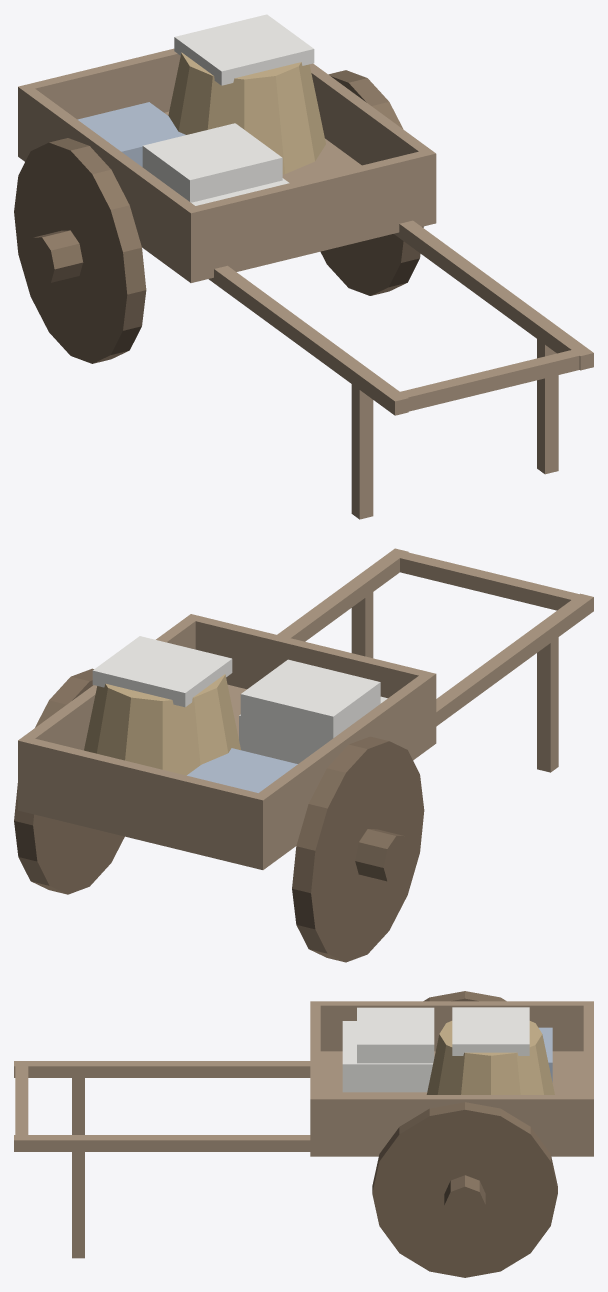
File: handcart.glb
3 renders of one model, top to bottom at view 1: azimuth 30°, elevation 25°; view 2: azimuth 150°, elevation 25°; view 3: azimuth 270°, elevation 25°, orthographic. The views are drawn at different scales.
Parts seen in each view (by area): view 1: handcart, handcart_wheels, handcart_linen, handcart_basket, handcart_linen2; view 2: handcart, handcart_wheels, handcart_linen, handcart_basket, handcart_linen2; view 3: handcart, handcart_wheels, handcart_linen, handcart_basket.
Boxes of the visible parts, x1,y1,x2,y2 form: handcart: (18,48,593,519); handcart_wheels: (14,70,423,363); handcart_linen: (142,14,314,205); handcart_basket: (168,52,325,174); handcart_linen2: (77,102,185,166); handcart: (18,548,593,869); handcart_wheels: (14,668,424,962); handcart_linen: (92,636,387,763); handcart_basket: (84,674,240,775); handcart_linen2: (187,748,297,792); handcart: (14,1001,593,1258); handcart_wheels: (372,991,557,1277); handcart_linen: (342,1007,529,1092); handcart_basket: (426,1021,554,1094).
Size of the model in its own units: 1.3 by 0.895 by 2.25.
